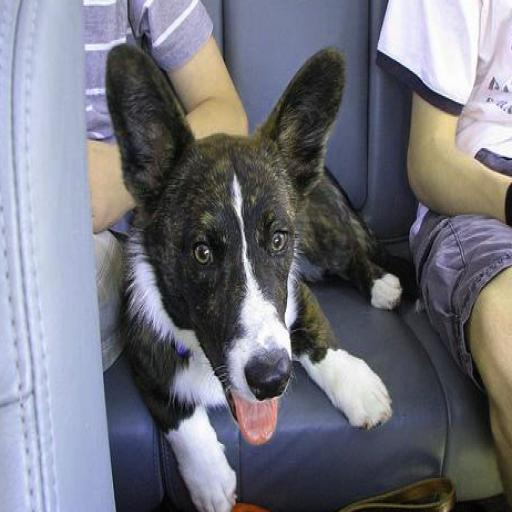dog_face: (108, 44, 347, 420)
